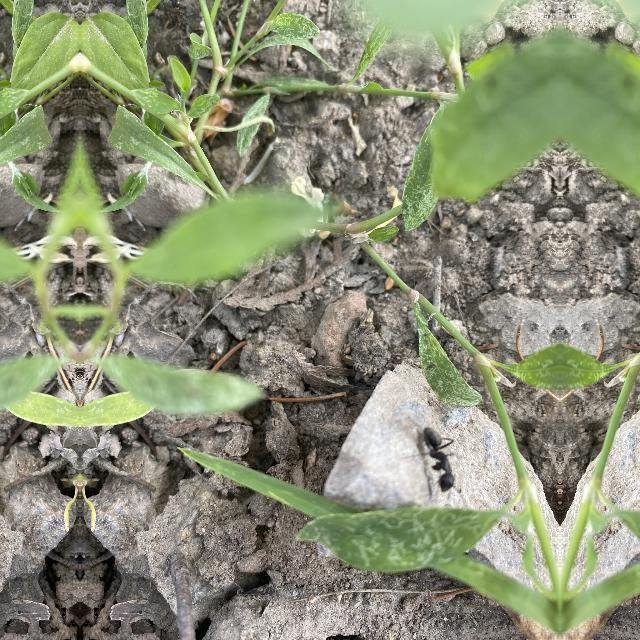Camponotus: (410, 417, 468, 495)
